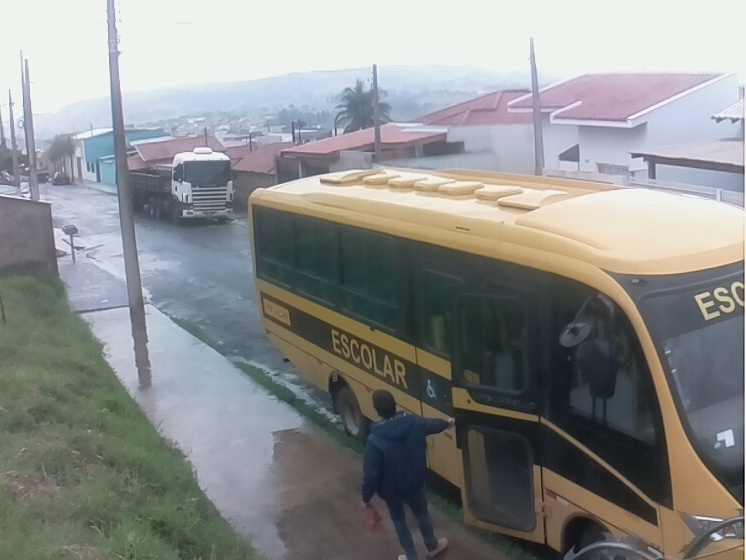person: (360, 388, 458, 560)
